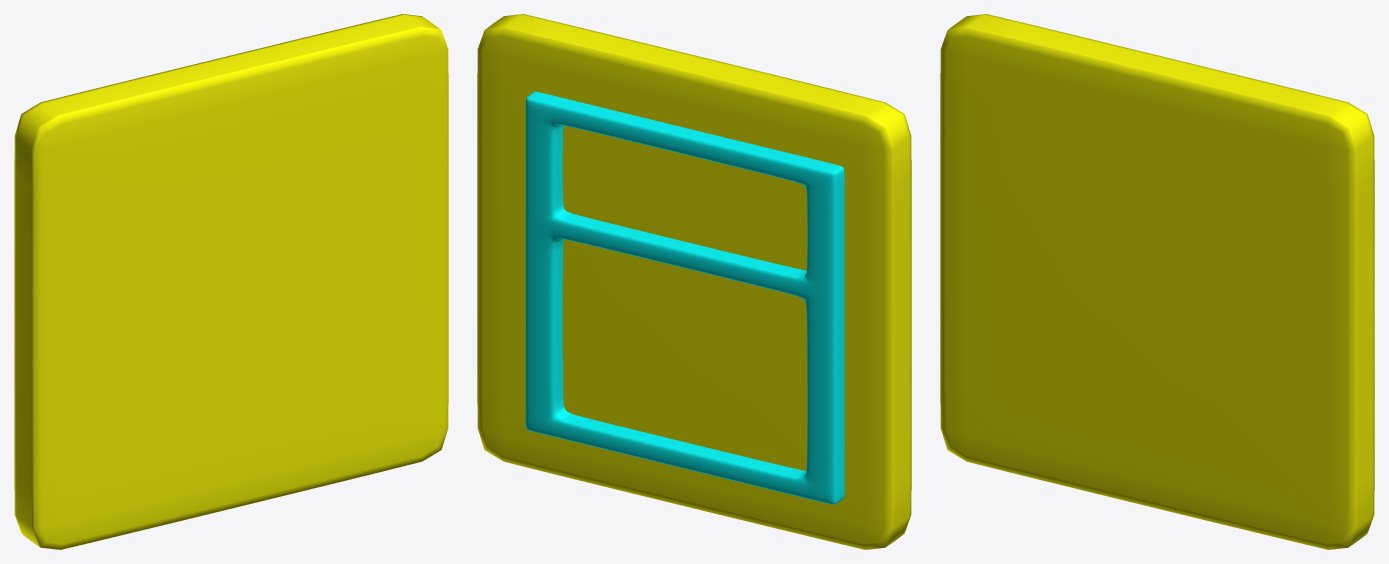
The picture shows the model from 3 angles, left to right: view 1: azimuth 30°, elevation 25°; view 2: azimuth 150°, elevation 25°; view 3: azimuth 330°, elevation 25°; orthographic projection.
Visible parts, largest first — view 1: polySurface996; view 2: polySurface996; view 3: polySurface996.
Part boxes in pixels (x1=…): polySurface996: x1=14, y1=14, x2=448, y2=549; polySurface996: x1=477, y1=14, x2=911, y2=549; polySurface996: x1=940, y1=14, x2=1374, y2=549.
Size of the model in its own units: 0.9994 by 0.9994 by 0.1382.
